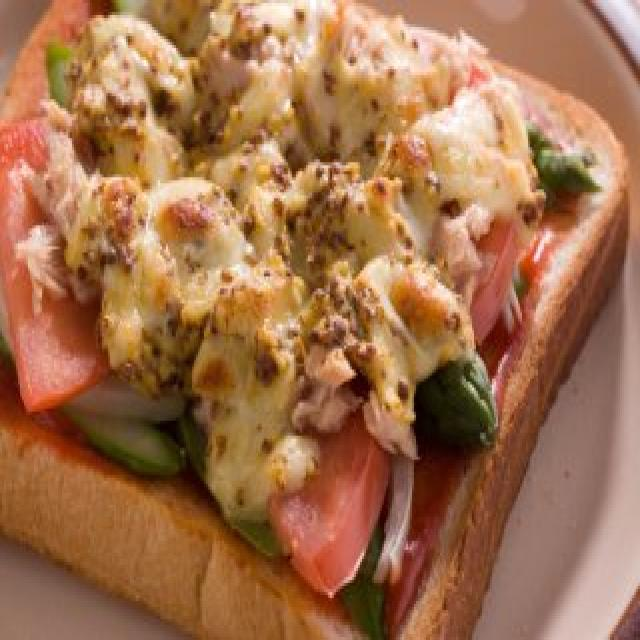面包点心: (0, 3, 632, 640)
